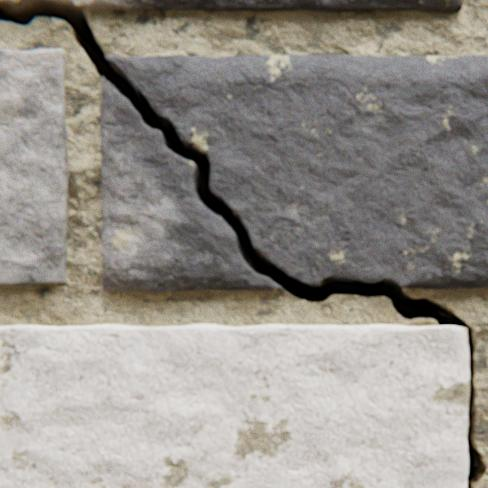brick: (0, 324, 468, 487), (0, 50, 70, 285)
broken_brick: (106, 56, 487, 289), (102, 79, 281, 291), (45, 0, 461, 14), (0, 0, 29, 7)
crack: (0, 0, 487, 487)
